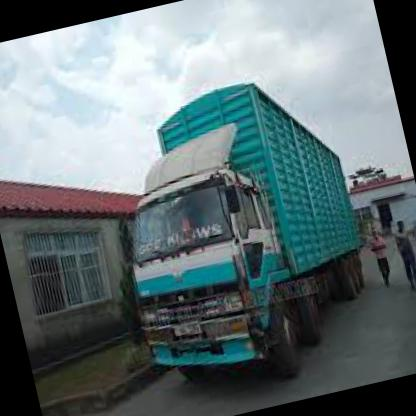truck: (112, 162, 315, 408)
